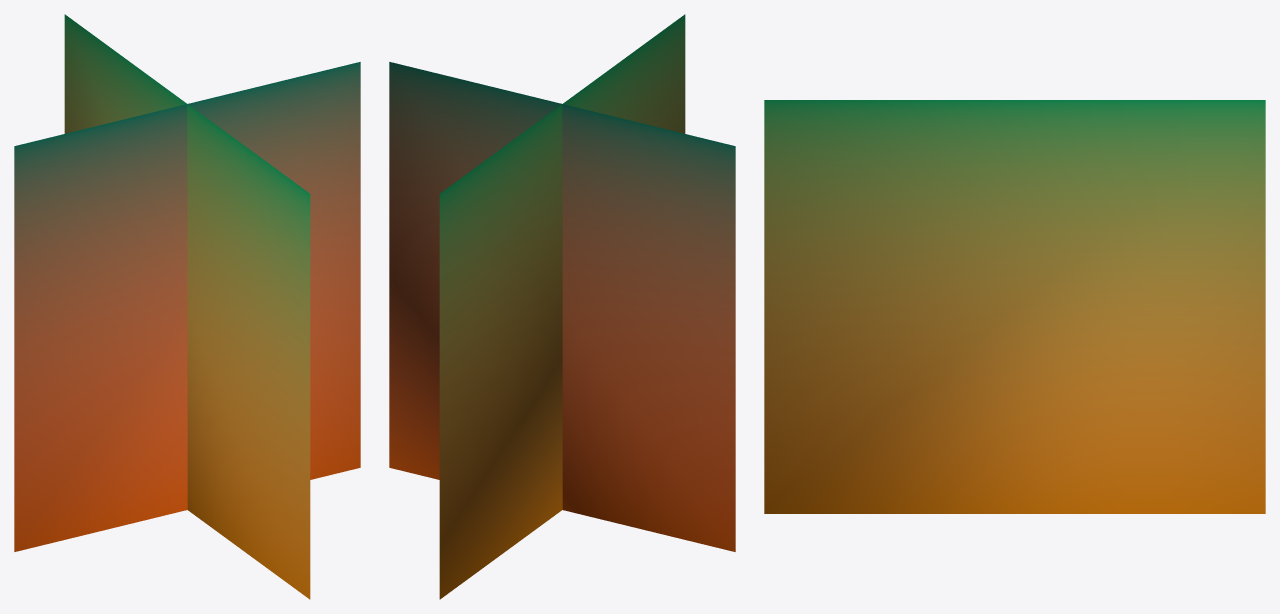
The model's file is SM_Bush_Hazel_B_LOD3.fbx.
3 renders of one model, left to right at view 1: azimuth 30°, elevation 25°; view 2: azimuth 150°, elevation 25°; view 3: azimuth 270°, elevation 25°, orthographic.
Parts seen in each view (by area): view 1: SM_Bush_Hazel_B_LOD3; view 2: SM_Bush_Hazel_B_LOD3; view 3: SM_Bush_Hazel_B_LOD3.
Part boxes in pixels (bbox=[...]): SM_Bush_Hazel_B_LOD3: bbox=[14, 14, 360, 599]; SM_Bush_Hazel_B_LOD3: bbox=[389, 14, 735, 599]; SM_Bush_Hazel_B_LOD3: bbox=[764, 100, 1265, 513].
Bounding box in the file's own units: 2.22 × 2.49 × 2.73.
